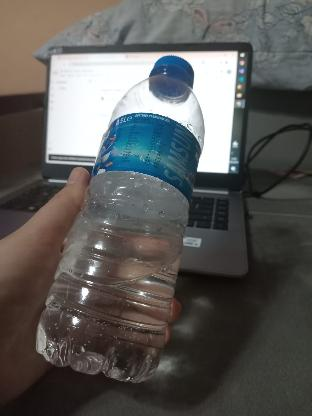Plastic Bottle: (41, 55, 202, 387)
